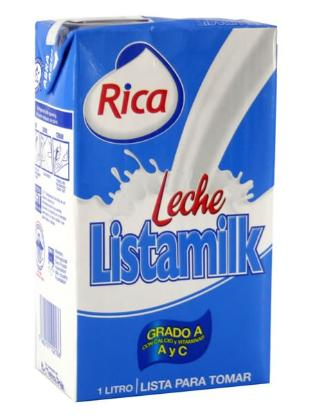Others: (28, 10, 278, 406)
